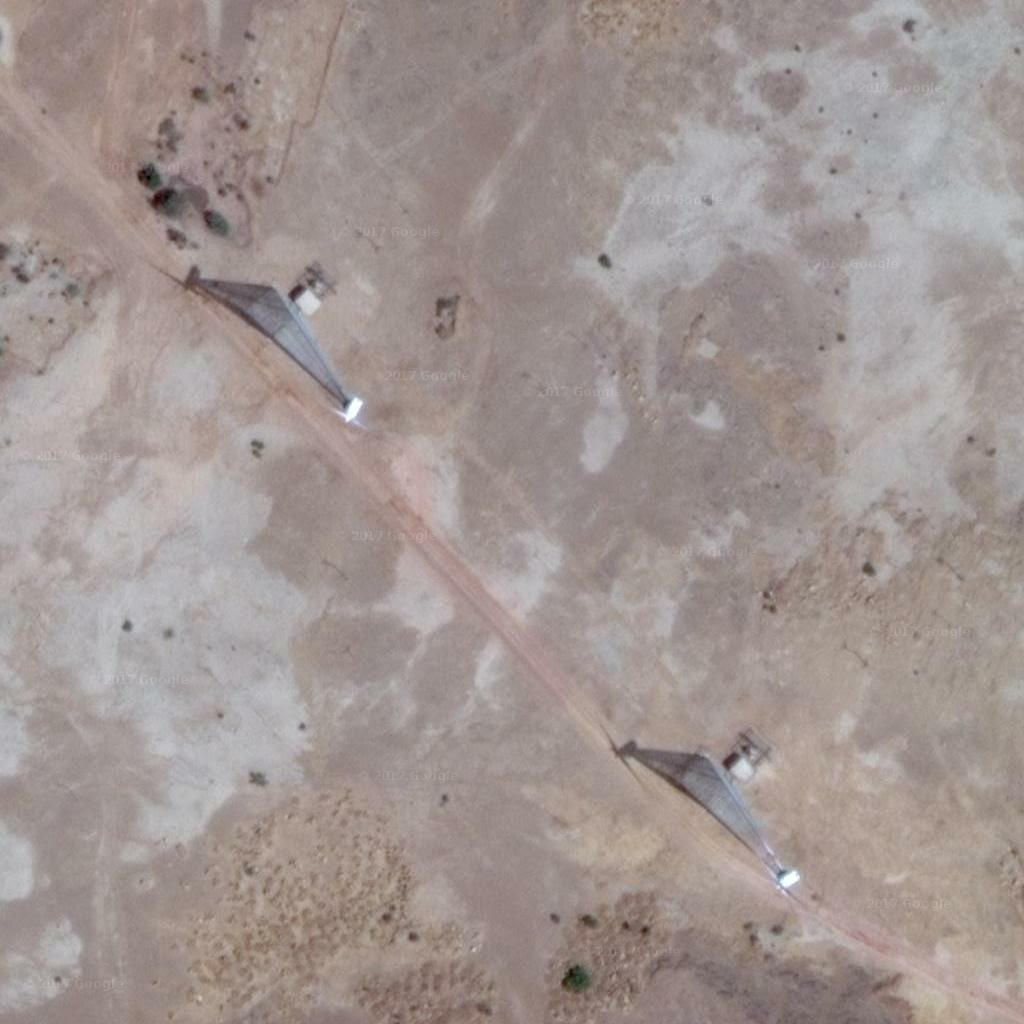Windmill: (146, 247, 380, 468)
